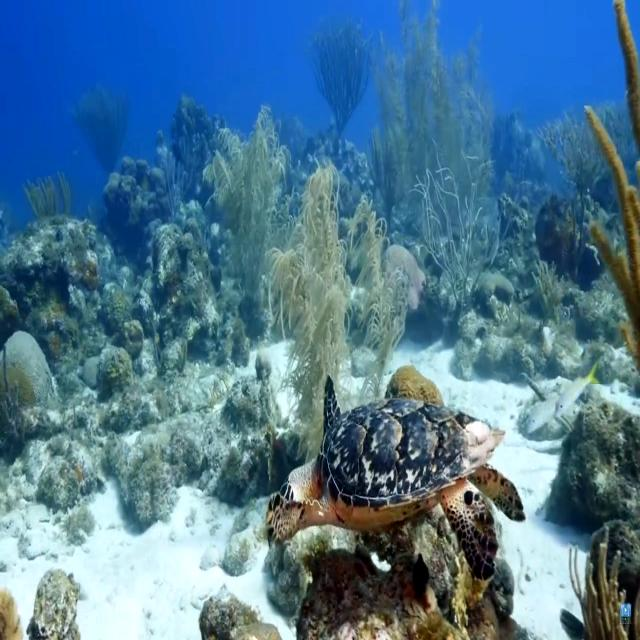Sea turtle: (267, 369, 527, 584)
